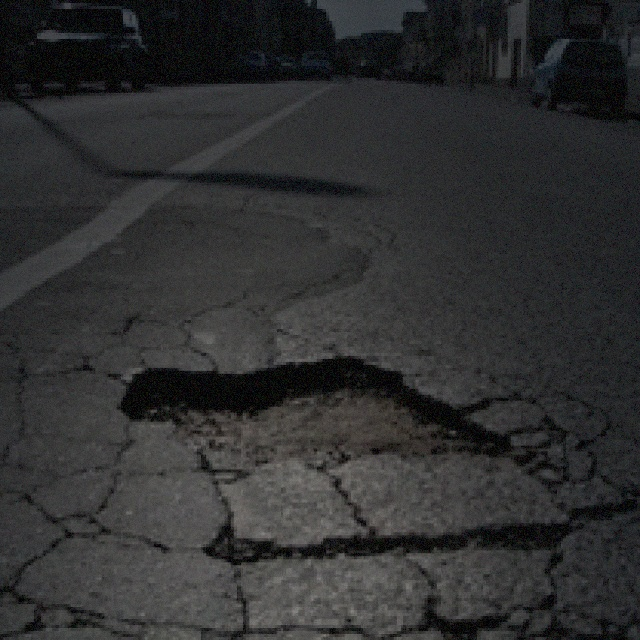pothole: (114, 341, 529, 481)
